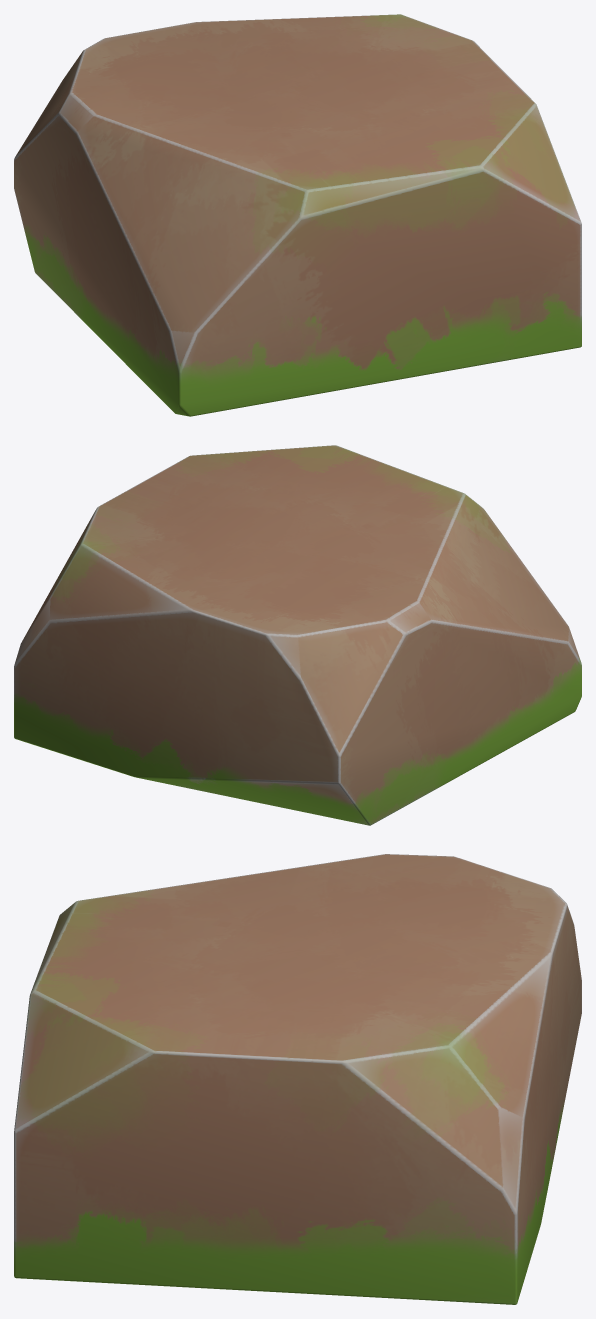
File: Rock Type 4_1.fbx
The picture shows the model from 3 angles, top to bottom: view 1: azimuth 30°, elevation 25°; view 2: azimuth 150°, elevation 25°; view 3: azimuth 270°, elevation 25°; orthographic projection. The views are drawn at different scales.
Visible parts, largest first — view 1: Cube.088; view 2: Cube.088; view 3: Cube.088.
Boxes of the visible parts, box(x1,y1,x2,y2) form: Cube.088: box(14, 14, 581, 416); Cube.088: box(14, 445, 581, 825); Cube.088: box(14, 854, 581, 1304).
Bounding box in the file's own units: 1248 × 561 × 1230.
